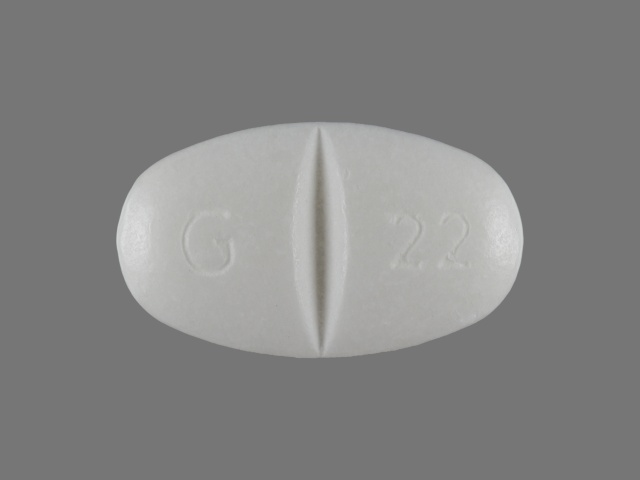2: (386, 208, 432, 273), (432, 208, 474, 273)
G: (179, 197, 243, 281)
|: (287, 127, 355, 354)
